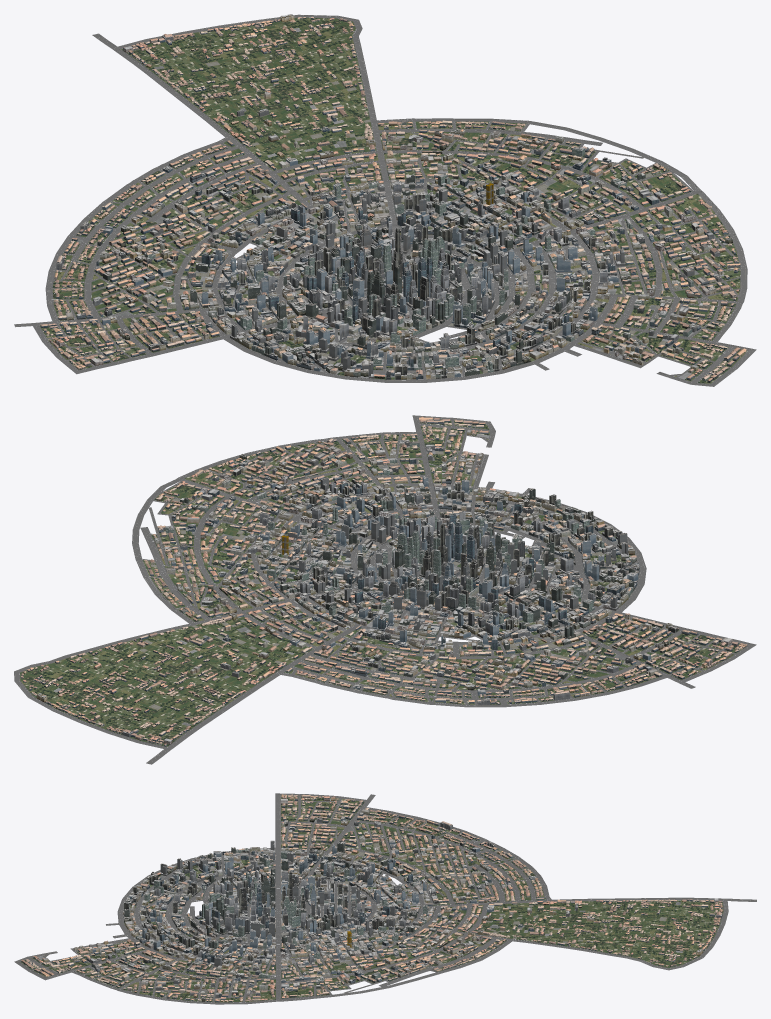
The model's file is sceen_4_polusi_kota.glb.
3 views of the same model, one above another, from view 1: azimuth 30°, elevation 25°; view 2: azimuth 150°, elevation 25°; view 3: azimuth 270°, elevation 25° (orthographic). The views are drawn at different scales.
Parts seen in each view (by area): view 1: Object_318, Object_316, Object_70, Object_26, Object_32, Object_44, Object_56, Object_312, Object_168, Object_4, Object_72, Object_64 (+48 smaller); view 2: Object_318, Object_316, Object_70, Object_26, Object_32, Object_44, Object_56, Object_72, Object_168, Object_4, Object_120, Object_64 (+46 smaller); view 3: Object_318, Object_316, Object_70, Object_26, Object_32, Object_56, Object_44, Object_4, Object_72, Object_168, Object_120, Object_64 (+46 smaller).
Boxes of the visible parts, x1,y1,x2,y2 form: Object_318: (14, 15, 754, 386); Object_316: (14, 14, 756, 386); Object_70: (46, 17, 740, 383); Object_26: (41, 17, 740, 379); Object_32: (42, 18, 740, 383); Object_44: (80, 24, 734, 377); Object_56: (40, 20, 740, 380); Object_312: (14, 15, 752, 386); Object_168: (54, 20, 732, 381); Object_4: (56, 25, 740, 365); Object_72: (71, 19, 723, 378); Object_64: (56, 23, 739, 380); Object_318: (15, 416, 753, 764); Object_316: (14, 415, 756, 764); Object_70: (27, 419, 747, 746); Object_26: (20, 419, 739, 742); Object_32: (24, 423, 735, 745); Object_44: (33, 424, 650, 702); Object_56: (24, 422, 721, 743); Object_72: (21, 422, 738, 732); Object_168: (30, 426, 691, 688); Object_4: (64, 435, 718, 744); Object_120: (102, 424, 677, 712); Object_64: (38, 419, 732, 746); Object_318: (16, 794, 756, 1003); Object_316: (14, 793, 756, 1004); Object_70: (24, 795, 723, 1002); Object_26: (28, 796, 723, 1001); Object_32: (20, 797, 723, 1002); Object_56: (23, 797, 723, 1002); Object_44: (30, 817, 675, 1002); Object_4: (77, 805, 722, 998); Object_72: (26, 798, 700, 997); Object_168: (25, 801, 686, 995); Object_120: (33, 807, 692, 995); Object_64: (33, 797, 722, 1001).
Bounding box in the file's own units: 772 × 69.26 × 1052.
Materials: 65 (64 with a texture image).
